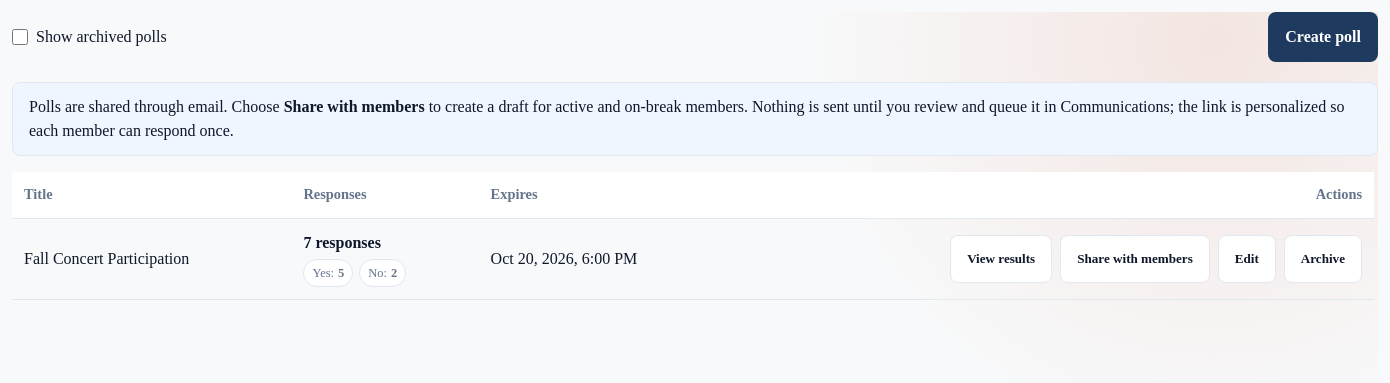
Test: PollsPage archive controls and safeguards (#170) › renders active polls with Archive action, enforces 2-step confirmation, and disallows permanent deletion
Check: the text "Fall Concert Participation" is shown, box [12,218,291,300]
Note: Archive button exists on the active row in table
Step 1. Click the button "Archive" → x=1323, y=259, box [1284,235,1362,283]
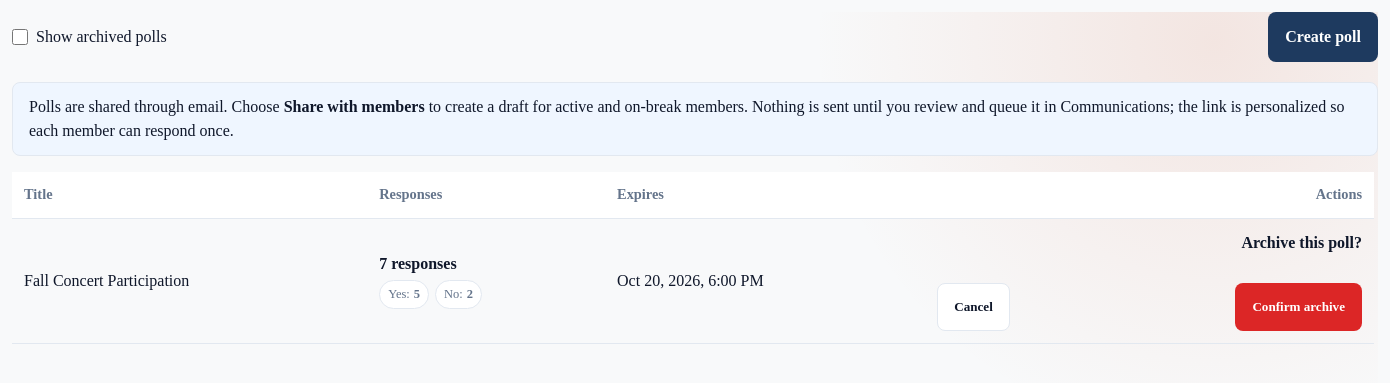
Check: the text "Archive this poll?" is shown, box [1241,234,1362,251]
Check: the button "Confirm archive" is shown, box [1235,283,1362,331]
Note: Cancel dismisses without archiving
Step 2. Click the button "Cancel" → x=974, y=307, box [937,283,1010,331]
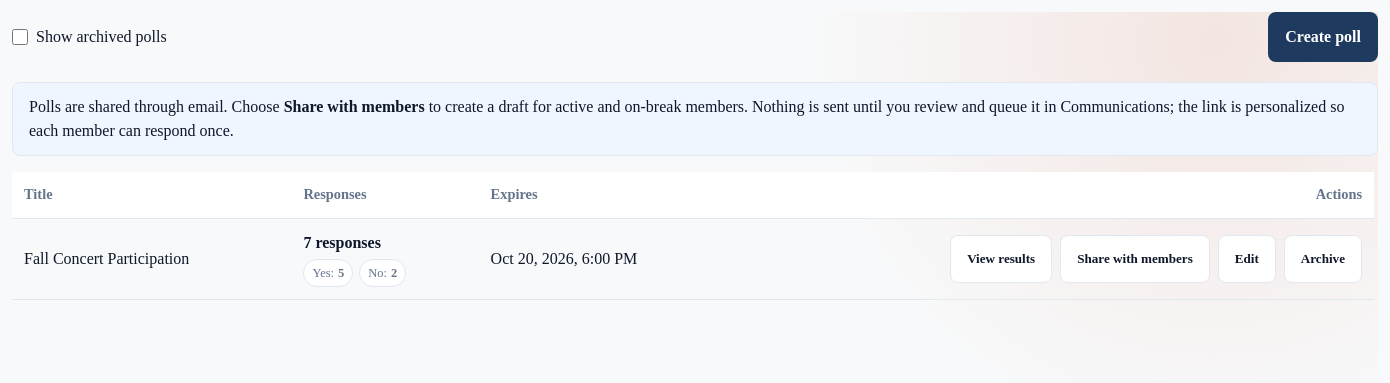
Check: the text "Archive this poll?" is gone
Note: Click Archive again and confirm
Step 3. Click the button "Archive" → x=1323, y=259, box [1284,235,1362,283]
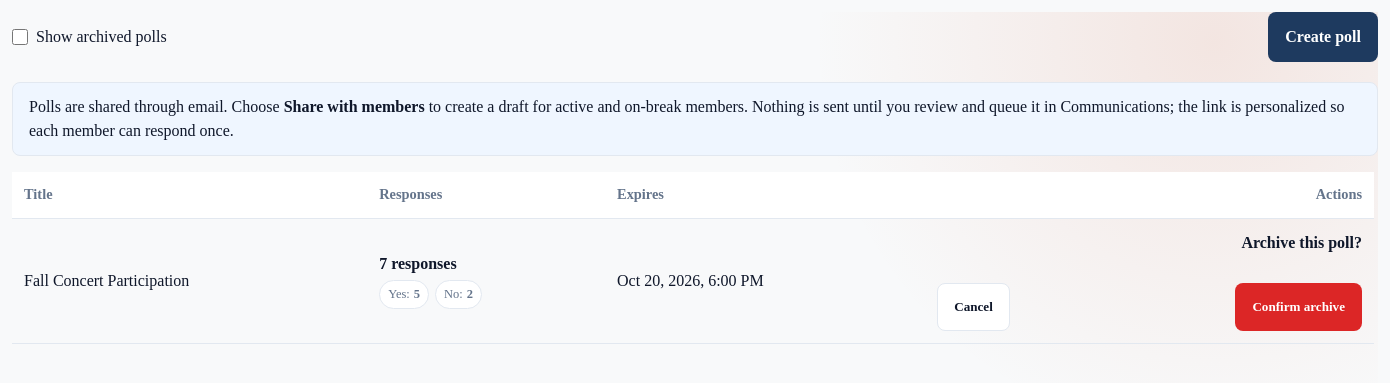
Step 4. Click the button "Confirm archive" → x=1299, y=307, box [1235,283,1362,331]
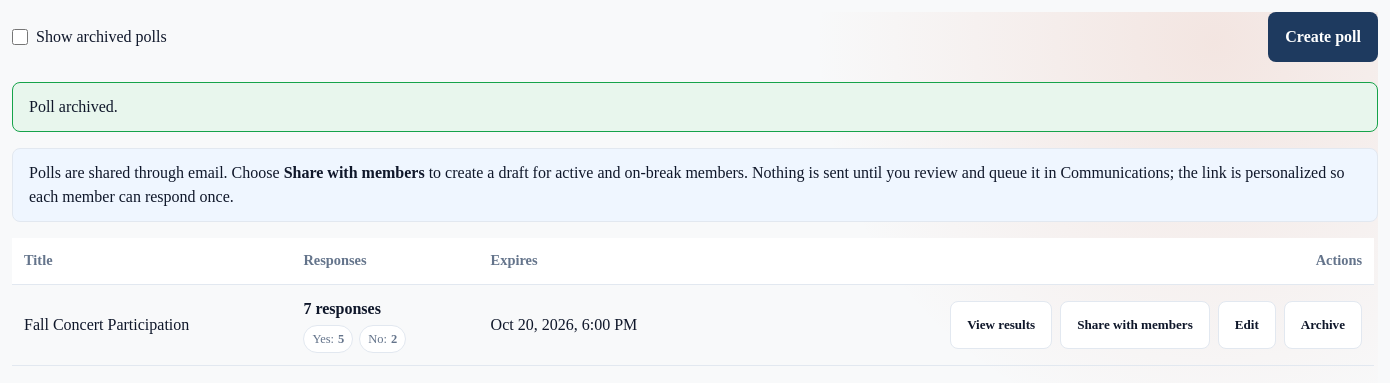
Check: the text "Poll archived." is shown, box [12,82,1378,132]
